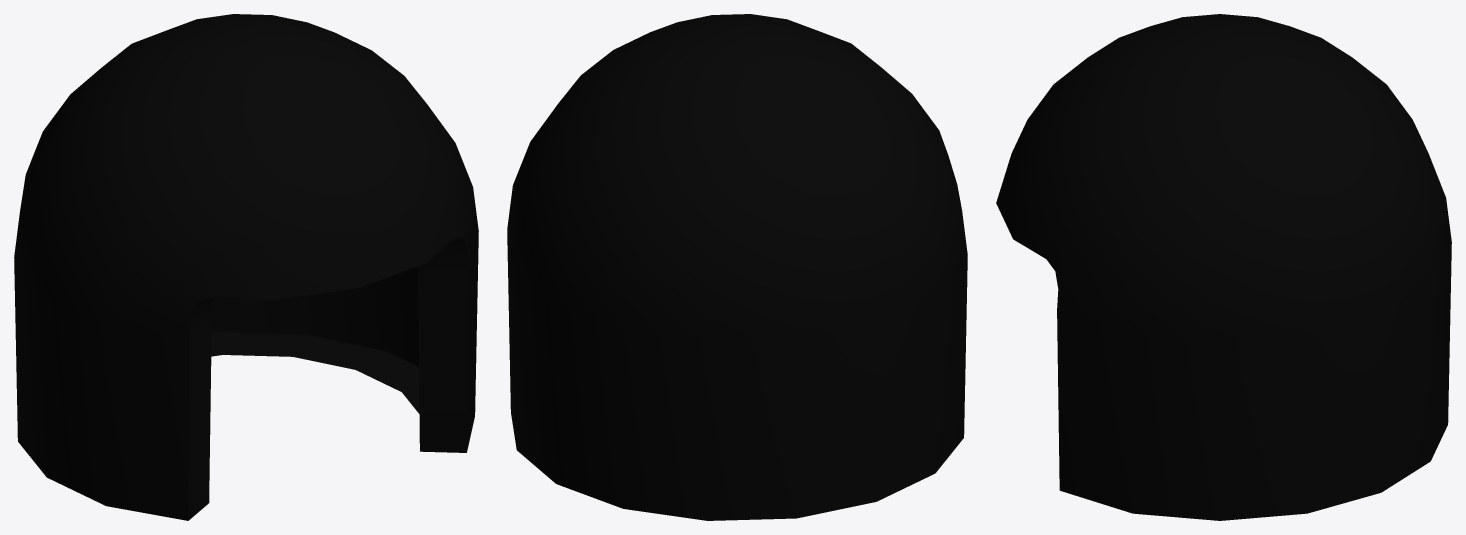
The model's file is Hair_07.fbx.
The picture shows the model from 3 angles, left to right: view 1: azimuth 30°, elevation 25°; view 2: azimuth 150°, elevation 25°; view 3: azimuth 270°, elevation 25°; orthographic projection.
Visible parts, largest first — view 1: Hair_07; view 2: Hair_07; view 3: Hair_07.
Boxes of the visible parts, <box> form: Hair_07: <box>14,14,478,520</box>; Hair_07: <box>507,14,967,520</box>; Hair_07: <box>996,14,1451,520</box>.
Size of the model in its own units: 116 by 108 by 114.
